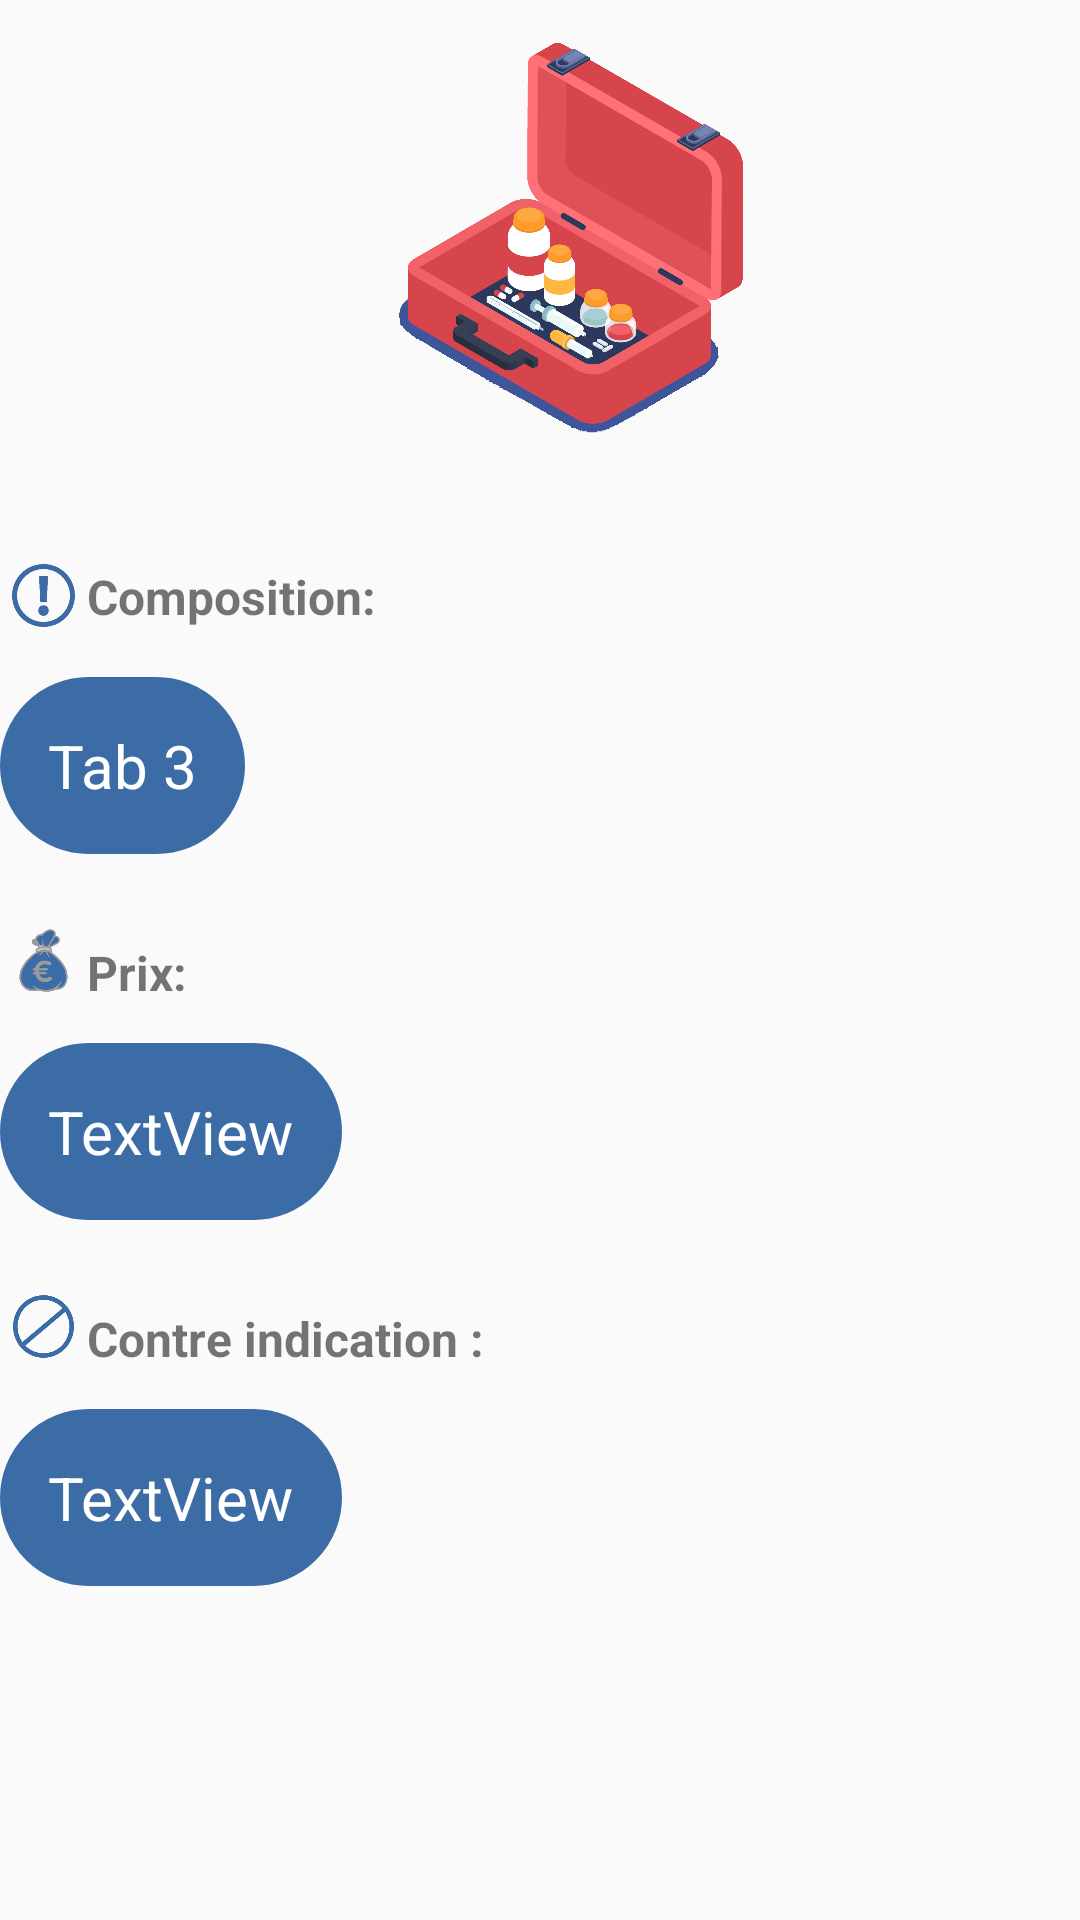

Locate icon controls on the screen. Image size 1080 x 1920, boxes as [x1, y1, x2, y2].
bourse: [19, 929, 68, 992]
imagewarning: [12, 564, 75, 627]
